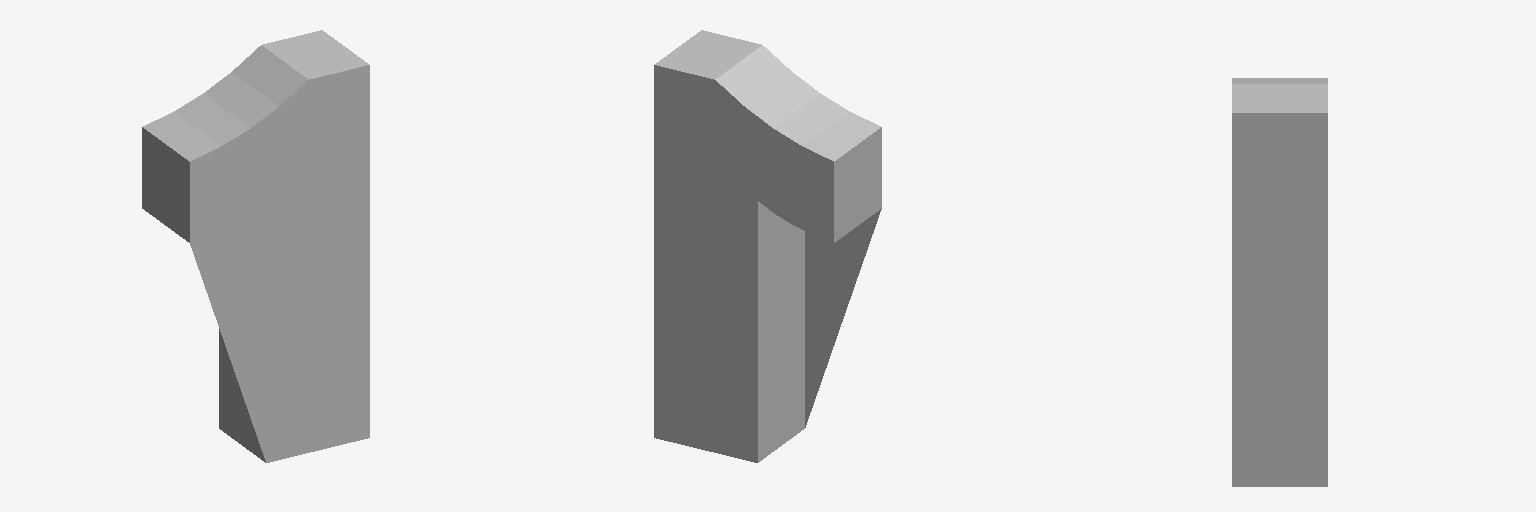
The picture shows the model from 3 angles: view 1: azimuth 30°, elevation 25°; view 2: azimuth 150°, elevation 25°; view 3: azimuth 270°, elevation 25°; orthographic projection.
Visible parts, largest first — view 1: typeMesh1; view 2: typeMesh1; view 3: typeMesh1.
Part boxes in pixels (left/top/right/bottom): typeMesh1: left=142, top=30, right=369, bottom=462; typeMesh1: left=654, top=30, right=881, bottom=462; typeMesh1: left=1232, top=78, right=1327, bottom=486.
Size of the model in its own units: 5.47 by 10.81 by 2.5.